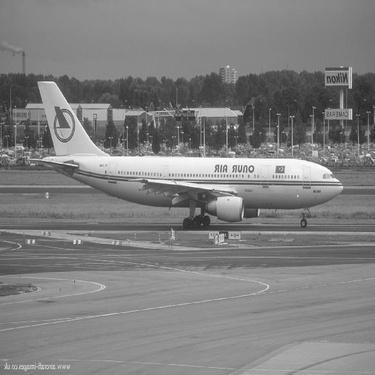airplane: (1, 71, 350, 238)
